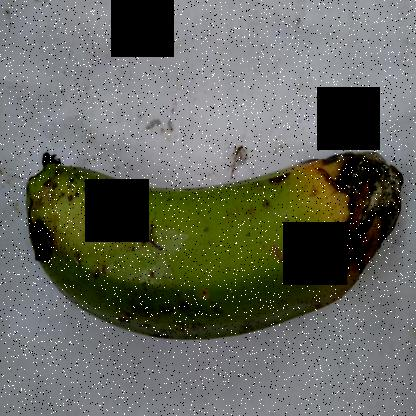unripe: (15, 125, 318, 365)
